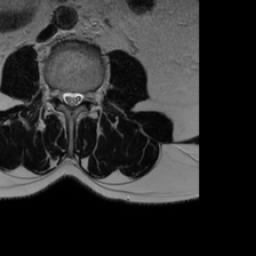CCS_stenosis: (69, 82, 76, 116)
LFS_normal: (84, 82, 92, 110)
LLS_normal: (76, 82, 84, 112)
RFS_normal: (53, 79, 61, 106)
RLS_normal: (61, 83, 69, 110)
